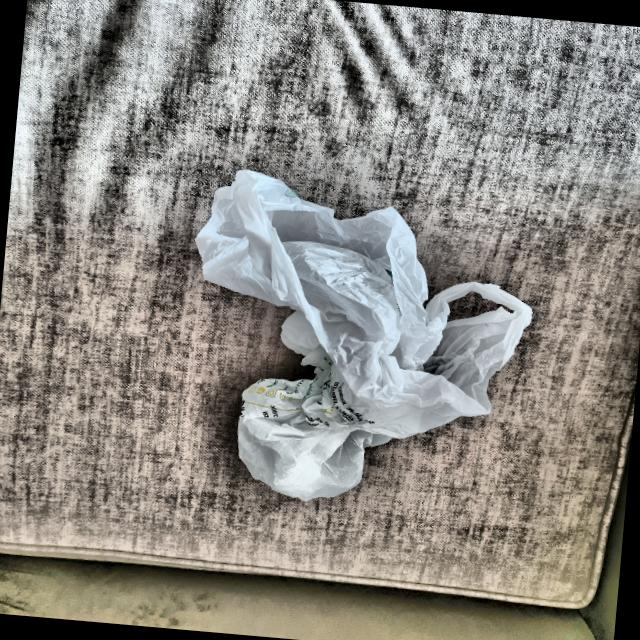plastic bag: (154, 151, 548, 526)
